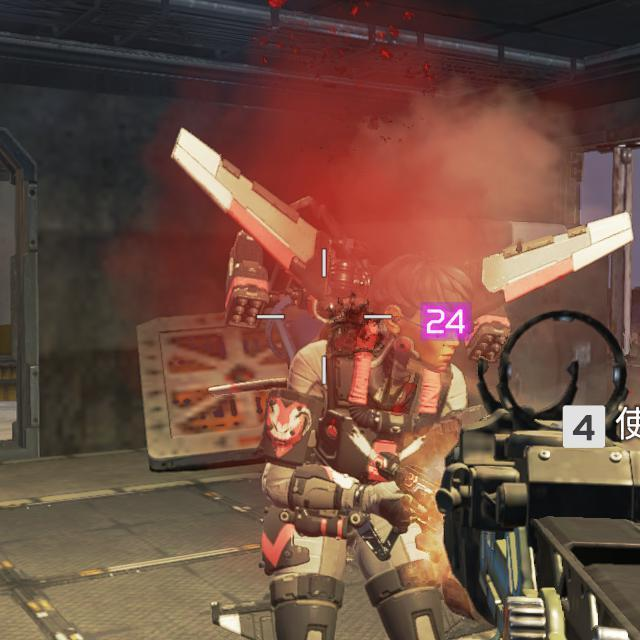avatar: (261, 251, 474, 640)
